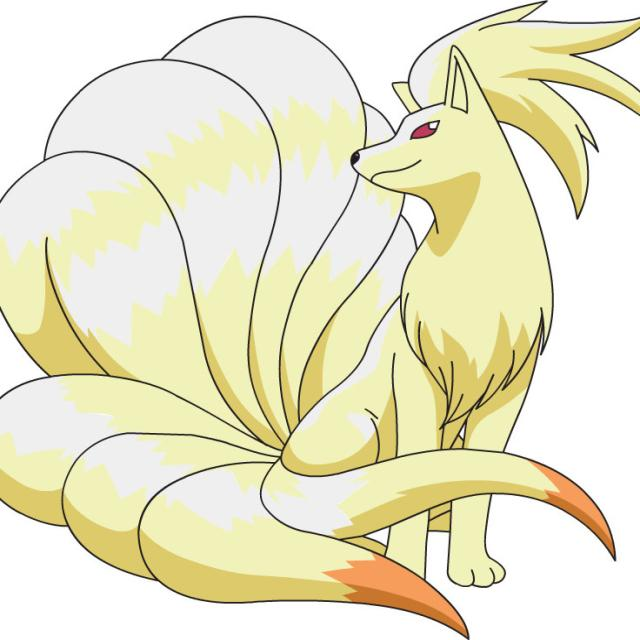Ninetales: (113, 60, 536, 504)
